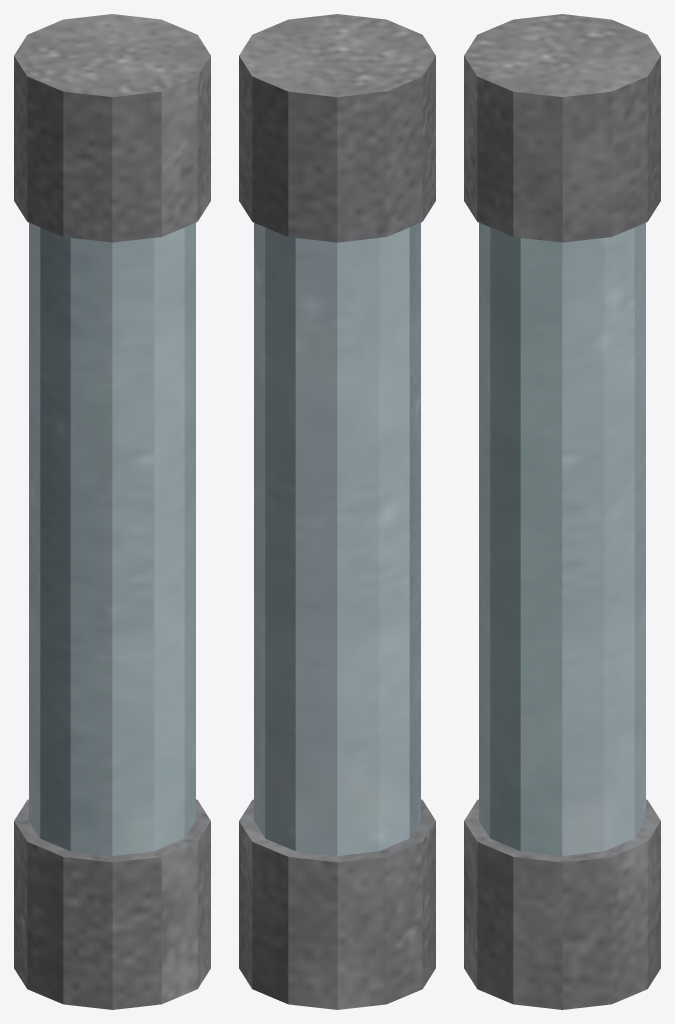
The model's file is fuse.fbx.
3 renders of one model, left to right at view 1: azimuth 30°, elevation 25°; view 2: azimuth 150°, elevation 25°; view 3: azimuth 270°, elevation 25°, orthographic.
Visible parts, largest first — view 1: fuse; view 2: fuse; view 3: fuse.
Boxes of the visible parts, box(x1,y1,x2,y2) form: fuse: box(14, 14, 210, 1009); fuse: box(239, 14, 435, 1009); fuse: box(464, 14, 660, 1009).
Bounding box in the file's own units: 7.26 × 37.16 × 7.26.
